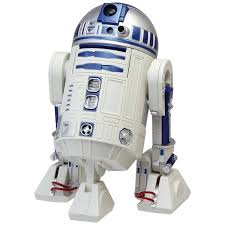r2d2: (33, 1, 191, 222)
